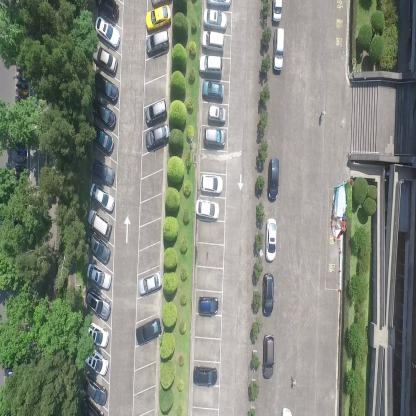car: (88, 96, 116, 132), (85, 229, 111, 266), (91, 42, 118, 77), (80, 372, 108, 405), (92, 14, 120, 47), (86, 207, 112, 241), (88, 154, 115, 186), (88, 181, 115, 212), (84, 288, 110, 320), (82, 348, 109, 378), (92, 72, 119, 102), (136, 315, 162, 346), (146, 2, 172, 32), (90, 122, 113, 155), (86, 261, 112, 290), (146, 26, 171, 56), (138, 268, 162, 298), (145, 122, 170, 150), (144, 96, 168, 124), (264, 218, 278, 263), (272, 26, 285, 72), (192, 364, 219, 386), (86, 321, 108, 348), (267, 157, 280, 202), (195, 199, 220, 222), (262, 334, 274, 380), (199, 54, 223, 77), (203, 8, 228, 30), (262, 273, 274, 317), (199, 172, 223, 194), (201, 79, 224, 100), (202, 126, 225, 147), (200, 30, 224, 50), (96, 0, 118, 21), (197, 295, 218, 316), (80, 397, 104, 415), (207, 104, 227, 124), (206, 0, 232, 14), (271, 0, 282, 23)
